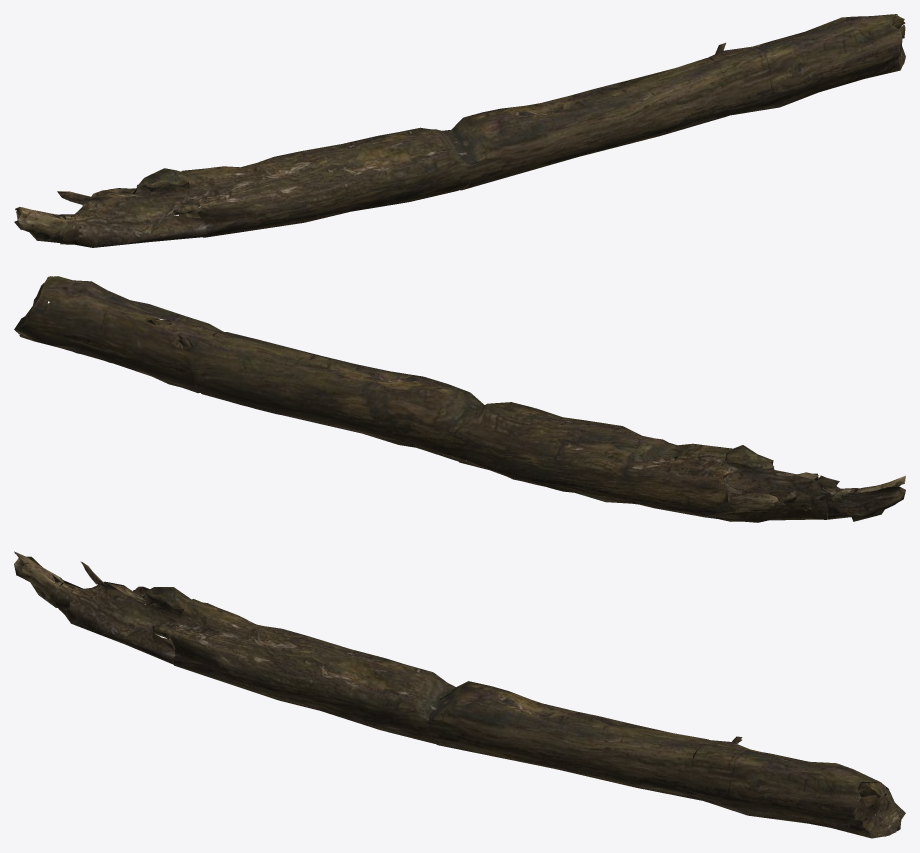
File: dead_tree_trunk.glb
The picture shows the model from 3 angles, top to bottom: view 1: azimuth 30°, elevation 25°; view 2: azimuth 150°, elevation 25°; view 3: azimuth 330°, elevation 25°; orthographic projection.
Visible parts, largest first — view 1: Prop; view 2: Prop; view 3: Prop.
Part boxes in pixels (x1,y1,x2,y2): Prop: [14, 14, 905, 247]; Prop: [14, 276, 905, 522]; Prop: [14, 551, 905, 838].
Size of the model in its own units: 3.05 by 0.2937 by 0.2732.
Materials: 1 (1 with a texture image).
